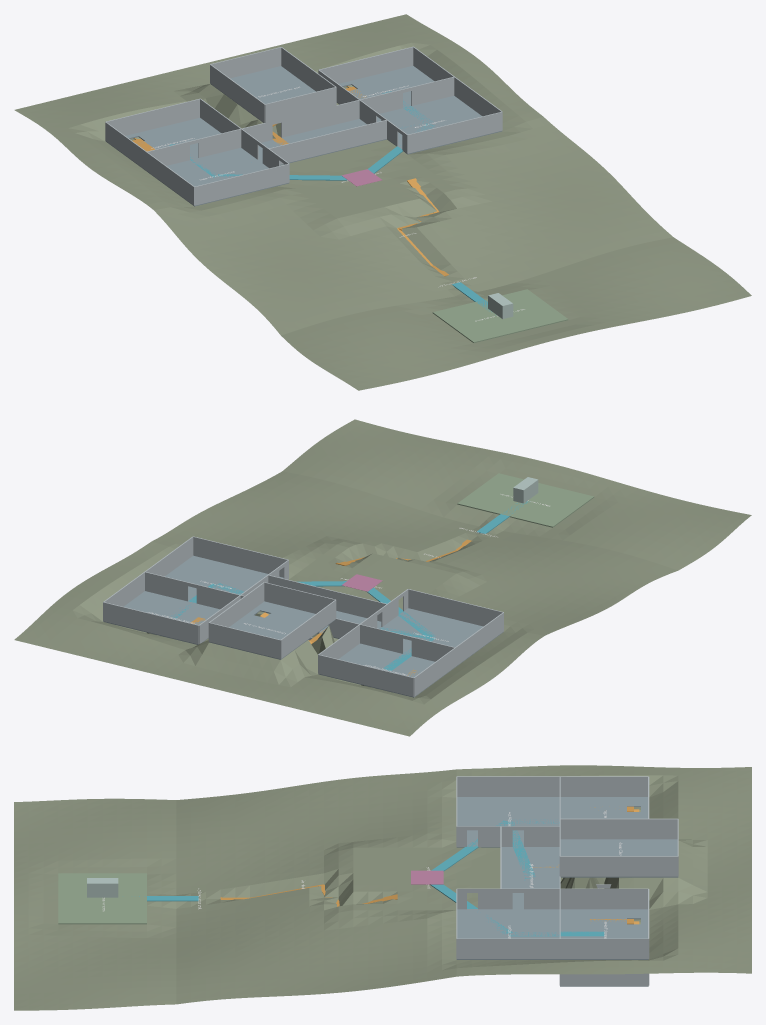
The model's file is rough-shell.glb.
3 views of the same model, one above another, from view 1: azimuth 30°, elevation 25°; view 2: azimuth 150°, elevation 25°; view 3: azimuth 270°, elevation 25° (orthographic). The views are drawn at different scales.
Visible parts, largest first — view 1: Authored battery terrain, Floor stage, Floor east, Floor west, Wall gallery S, Wall east S, Wall west S, Wall service N, Wall magazine N, Wall gallery N.001, Wall director S, Floor director (+15 smaller); view 2: Authored battery terrain, Floor stage, Floor east, Floor west, Wall service N, Wall magazine N, Wall east S, Wall west S, Wall gallery S, Floor service.007, Wall director N, Floor magazine.007 (+13 smaller); view 3: Authored battery terrain, Floor stage, Floor west, Floor east, Wall director W, Floor gallery, Wall director E, Wall east E, Wall west W, Wall service W, Wall service E, Wall magazine W (+16 smaller).
Boxes of the visible parts, bbox=[...] form: Authored battery terrain: bbox=[14, 14, 751, 390]; Floor stage: bbox=[432, 289, 568, 342]; Floor east: bbox=[377, 96, 501, 154]; Floor west: bbox=[146, 148, 288, 206]; Wall gallery S: bbox=[269, 120, 386, 164]; Wall east S: bbox=[407, 111, 502, 153]; Wall west S: bbox=[194, 164, 289, 205]; Wall service N: bbox=[318, 46, 413, 83]; Wall magazine N: bbox=[105, 98, 199, 135]; Wall gallery N.001: bbox=[281, 100, 359, 137]; Wall director S: bbox=[265, 87, 336, 122]; Floor director: bbox=[210, 70, 298, 111]; Authored battery terrain: bbox=[14, 419, 751, 736]; Floor stage: bbox=[457, 473, 594, 527]; Floor east: bbox=[165, 555, 283, 602]; Floor west: bbox=[380, 608, 503, 666]; Wall service N: bbox=[103, 602, 198, 644]; Wall magazine N: bbox=[318, 654, 413, 696]; Wall east S: bbox=[193, 536, 288, 577]; Wall west S: bbox=[408, 589, 503, 626]; Wall gallery S: bbox=[268, 575, 386, 621]; Floor service.007: bbox=[123, 591, 209, 622]; Wall director N: bbox=[209, 622, 280, 658]; Floor magazine.007: bbox=[339, 643, 424, 675]; Authored battery terrain: bbox=[14, 765, 751, 1010]; Floor stage: bbox=[58, 873, 146, 924]; Floor west: bbox=[456, 797, 559, 847]; Floor east: bbox=[456, 909, 559, 959]; Wall director W: bbox=[560, 818, 677, 839]; Floor gallery: bbox=[501, 847, 559, 908]; Wall director E: bbox=[560, 856, 678, 876]; Wall east E: bbox=[456, 938, 559, 958]; Wall west W: bbox=[457, 776, 559, 796]; Wall service W: bbox=[560, 888, 648, 909]; Wall service E: bbox=[560, 938, 648, 958]; Wall magazine W: bbox=[560, 776, 648, 796].
Size of the model in its own units: 67.8 by 10.7 by 100.
